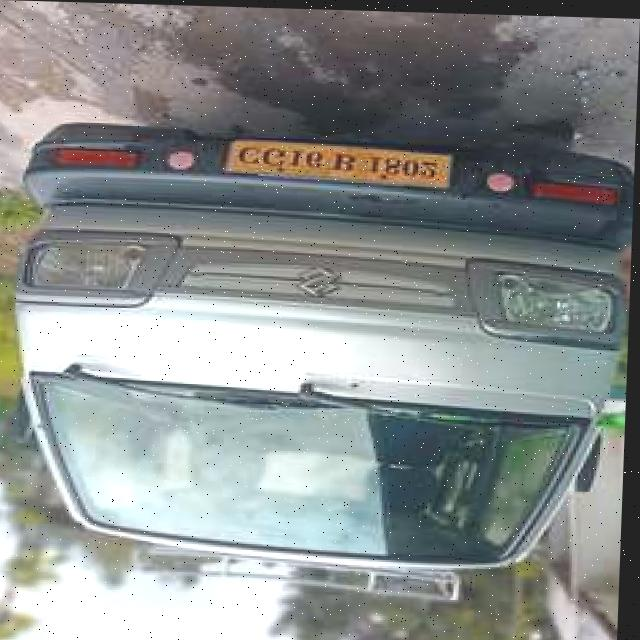plate: (228, 138, 455, 186)
